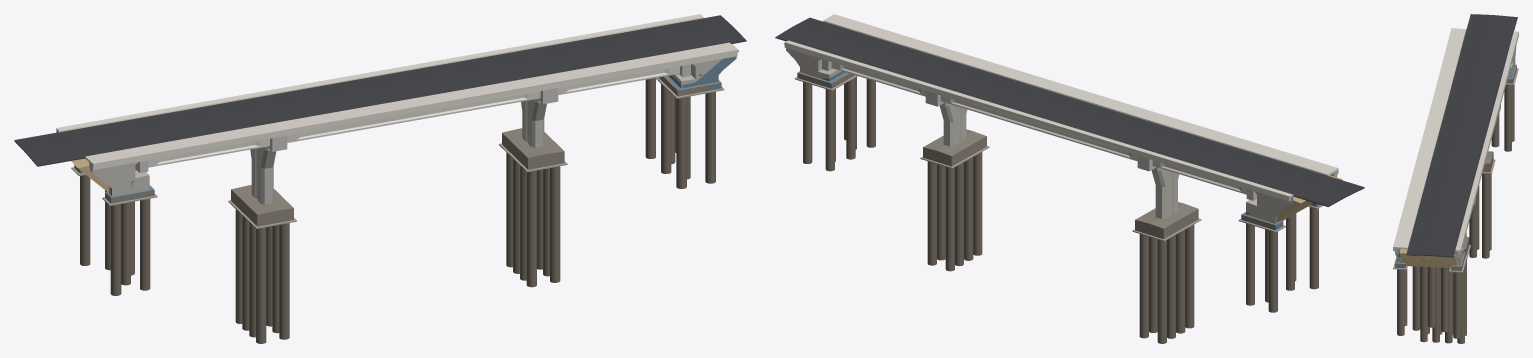
File: Bridge_SO201.dae
3 views of the same model, side by side, from view 1: azimuth 30°, elevation 25°; view 2: azimuth 150°, elevation 25°; view 3: azimuth 270°, elevation 25° (orthographic). The views are drawn at different scales.
Parts seen in each view (by area): view 1: 0r$xTC36ULMGQJvAkStNpQ, 12RF4BQYE2nAFXhB_ESiPM, 3kkITbleAntOJQnuOdF4GD, 2GapfdkKr6OHl15ivSvILG, 2T12tBKsv4vL2Pc9ijqqSu, 2gojBJ8751ev0VZT3WtTz5, 2iSvaPVQnmzi68Ayq9d6qY, 0RYStVBLOU3fK4TrSaxleL, 2vxXOtTmlBJAftg16Ip9lp, 0PDwbZP_Wjsa$t9tZlRWdn, 0Fx3Ykz9Zoo5T0r0sZtWPp, 3bdbo8NLsd1BoB5Ae7kYGn (+22 smaller); view 2: 0r$xTC36ULMGQJvAkStNpQ, 12RF4BQYE2nAFXhB_ESiPM, 3kkITbleAntOJQnuOdF4GD, 2gojBJ8751ev0VZT3WtTz5, 2T12tBKsv4vL2Pc9ijqqSu, 08X3nXPrQ8kjF15zlU0Bh1, 0Fx3Ykz9Zoo5T0r0sZtWPp, 0zIcQZf_T3Rb59CjoQc8X4, 2WJPpbnIyUCehnP4vK1ubq, 24ZD9cwOSNj_MNCV3GxP8N, 2sK3Oj2Oxz1wiAepNQukNM, 0RYStVBLOU3fK4TrSaxleL (+19 smaller); view 3: 0r$xTC36ULMGQJvAkStNpQ, 12RF4BQYE2nAFXhB_ESiPM, 3kkITbleAntOJQnuOdF4GD, 2WJPpbnIyUCehnP4vK1ubq, 05sPYA2jmp_rm8FG7R_0SM, 2vxXOtTmlBJAftg16Ip9lp, 35JRfDfc7AG4pP03LjzGAP, 0n$nC0OxnClTt3F0eMLOM5, 0GzCGpNTHvETrMS_kiVMMm, 3cS$RggRVZLcARadfuvY0u, 1fyAxUxs4bEDupYhVyQL5e, 3kML_OdcG2anTA0GEmMref (+16 smaller).
Boxes of the visible parts, box(x1,y1,x2,y2) form: 0r$xTC36ULMGQJvAkStNpQ: box(14, 15, 746, 166); 12RF4BQYE2nAFXhB_ESiPM: box(85, 42, 737, 169); 3kkITbleAntOJQnuOdF4GD: box(56, 14, 703, 132); 2GapfdkKr6OHl15ivSvILG: box(287, 91, 540, 142); 2T12tBKsv4vL2Pc9ijqqSu: box(231, 185, 293, 226); 2gojBJ8751ev0VZT3WtTz5: box(502, 128, 564, 169); 2iSvaPVQnmzi68Ayq9d6qY: box(279, 223, 289, 339); 0RYStVBLOU3fK4TrSaxleL: box(256, 227, 266, 343); 2vxXOtTmlBJAftg16Ip9lp: box(550, 166, 560, 282); 0PDwbZP_Wjsa$t9tZlRWdn: box(526, 170, 536, 287); 0Fx3Ykz9Zoo5T0r0sZtWPp: box(250, 146, 276, 204); 3bdbo8NLsd1BoB5Ae7kYGn: box(110, 204, 121, 295); 0r$xTC36ULMGQJvAkStNpQ: box(775, 17, 1364, 206); 12RF4BQYE2nAFXhB_ESiPM: box(823, 14, 1338, 175); 3kkITbleAntOJQnuOdF4GD: box(784, 40, 1293, 201); 2gojBJ8751ev0VZT3WtTz5: box(923, 129, 986, 166); 2T12tBKsv4vL2Pc9ijqqSu: box(1135, 202, 1198, 239); 08X3nXPrQ8kjF15zlU0Bh1: box(940, 95, 1137, 161); 0Fx3Ykz9Zoo5T0r0sZtWPp: box(1151, 167, 1179, 219); 0zIcQZf_T3Rb59CjoQc8X4: box(945, 167, 954, 271); 2WJPpbnIyUCehnP4vK1ubq: box(1139, 234, 1148, 338); 24ZD9cwOSNj_MNCV3GxP8N: box(1157, 240, 1166, 343); 2sK3Oj2Oxz1wiAepNQukNM: box(927, 161, 936, 265); 0RYStVBLOU3fK4TrSaxleL: box(1185, 224, 1194, 328); 0r$xTC36ULMGQJvAkStNpQ: box(1406, 14, 1517, 257); 12RF4BQYE2nAFXhB_ESiPM: box(1393, 28, 1466, 251); 3kkITbleAntOJQnuOdF4GD: box(1455, 31, 1518, 254); 2WJPpbnIyUCehnP4vK1ubq: box(1482, 173, 1489, 258); 05sPYA2jmp_rm8FG7R_0SM: box(1399, 249, 1456, 267); 2vxXOtTmlBJAftg16Ip9lp: box(1420, 266, 1427, 342); 35JRfDfc7AG4pP03LjzGAP: box(1412, 266, 1420, 330); 0n$nC0OxnClTt3F0eMLOM5: box(1427, 267, 1435, 327); 0GzCGpNTHvETrMS_kiVMMm: box(1453, 272, 1460, 338); 3cS$RggRVZLcARadfuvY0u: box(1397, 269, 1404, 335); 1fyAxUxs4bEDupYhVyQL5e: box(1504, 85, 1511, 151); 3kML_OdcG2anTA0GEmMref: box(1441, 267, 1448, 332).
Bounding box in the file's own units: 89.32 × 19.84 × 27.76.
